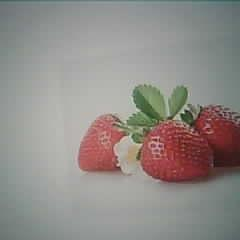straw-ripe: (139, 119, 212, 180), (78, 112, 128, 171)
